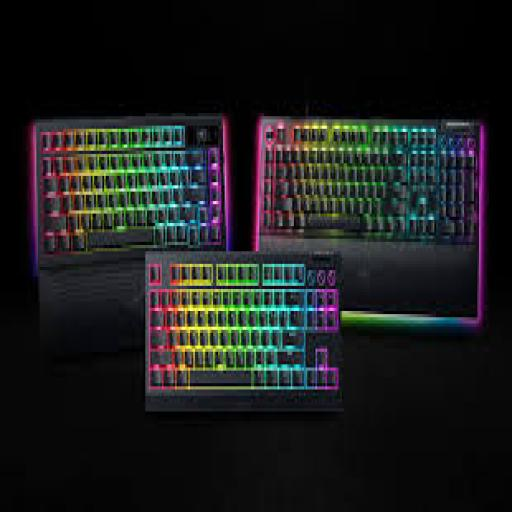keyboard: (145, 258, 340, 405)
